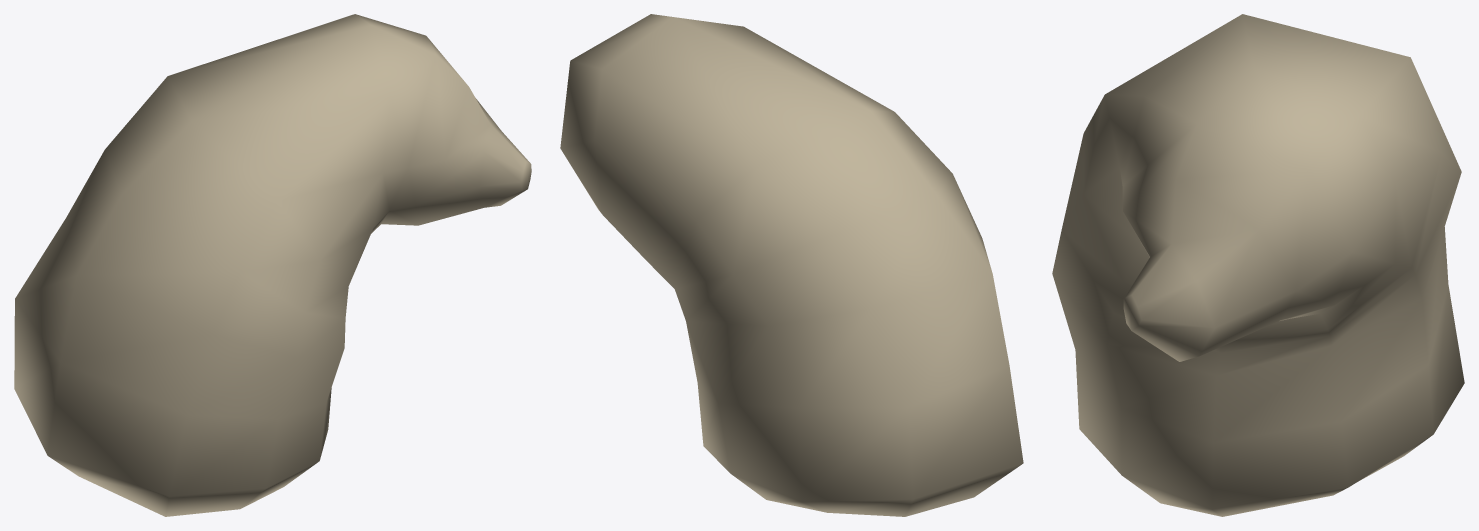
The model's file is Coral1.fbx.
3 views of the same model, side by side, from view 1: azimuth 30°, elevation 25°; view 2: azimuth 150°, elevation 25°; view 3: azimuth 270°, elevation 25° (orthographic). The views are drawn at different scales.
Parts seen in each view (by area): view 1: Plane.001; view 2: Plane.001; view 3: Plane.001.
Part boxes in pixels (x1,y1,x2,y2): Plane.001: (14, 14, 531, 516); Plane.001: (560, 14, 1023, 516); Plane.001: (1052, 14, 1464, 516).
Bounding box in the file's own units: 1.51 × 1.31 × 0.9498.
